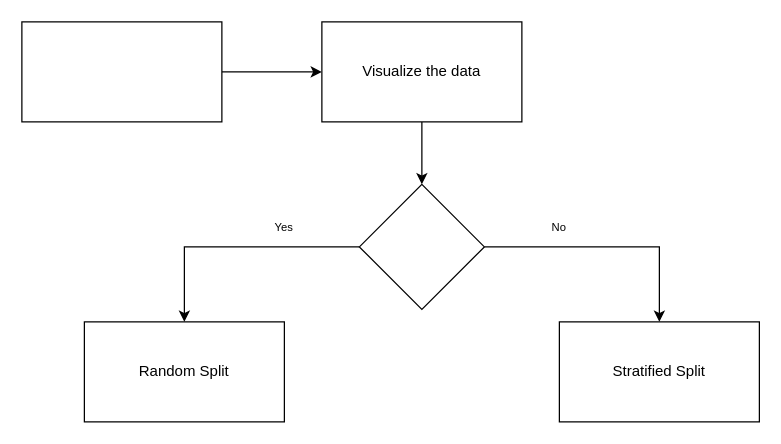
Image size: 781x444. Some labels were removed from this diagram. The centre of each missing label's shape, as x and y in pixels:
Get the data: the point at 121,71
Is there a pattern?: the point at 421,246
